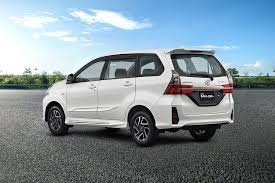mobil: (41, 46, 238, 144)
